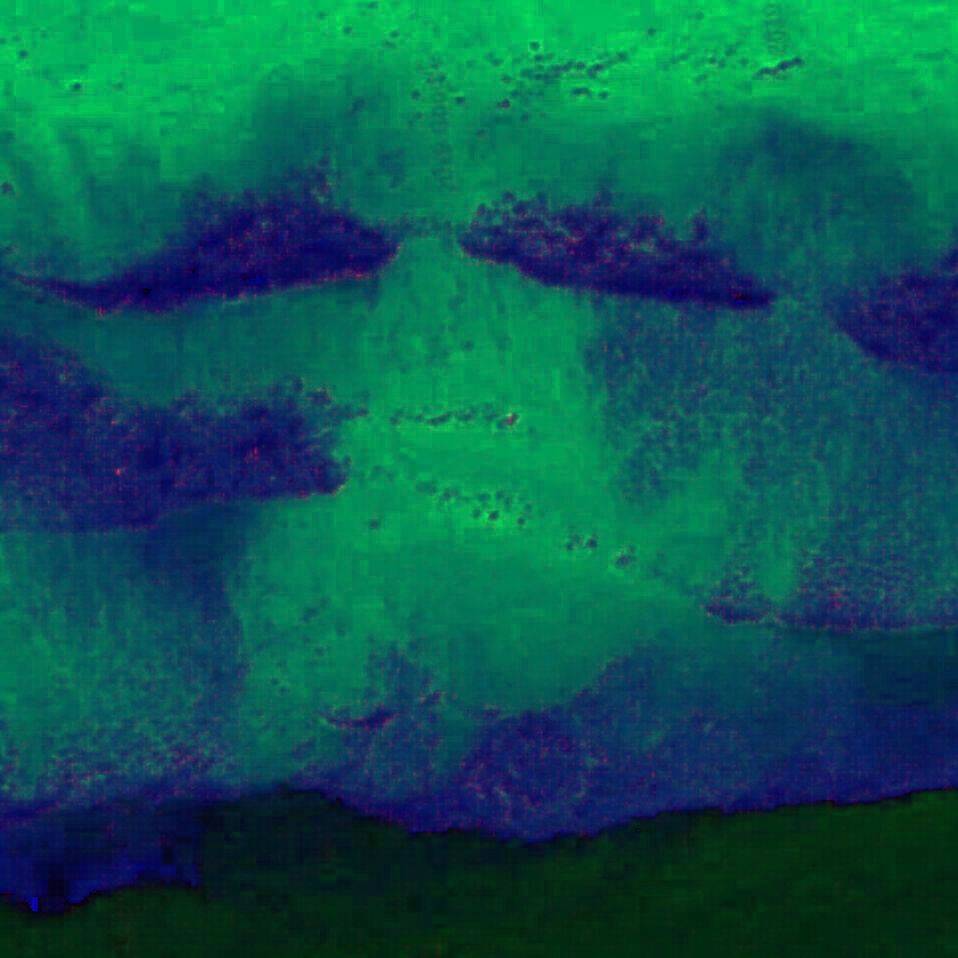rip_current: (243, 211, 723, 791)
